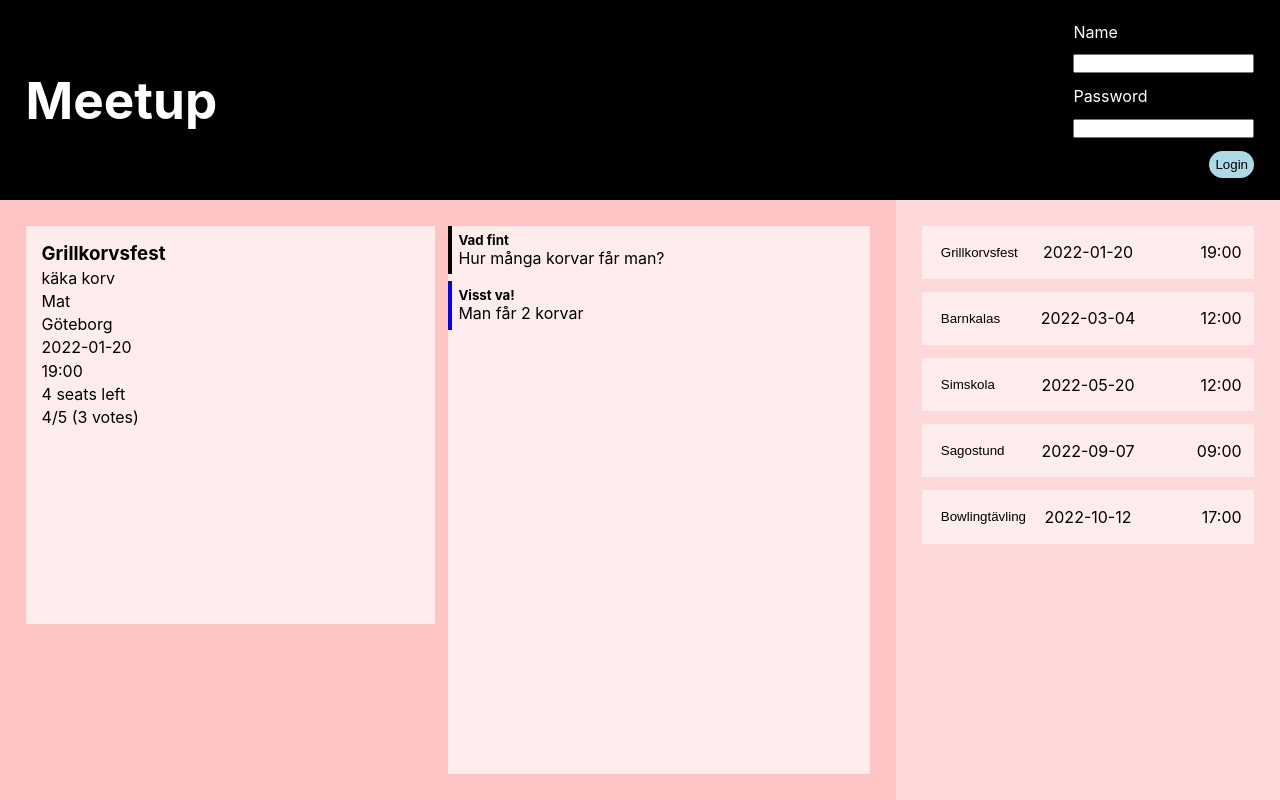
Test case: App › login on Click
Type "Anders" into the field with test id "login-form-input" showing "Name" at (1164, 64), box [1073,54,1254,73]
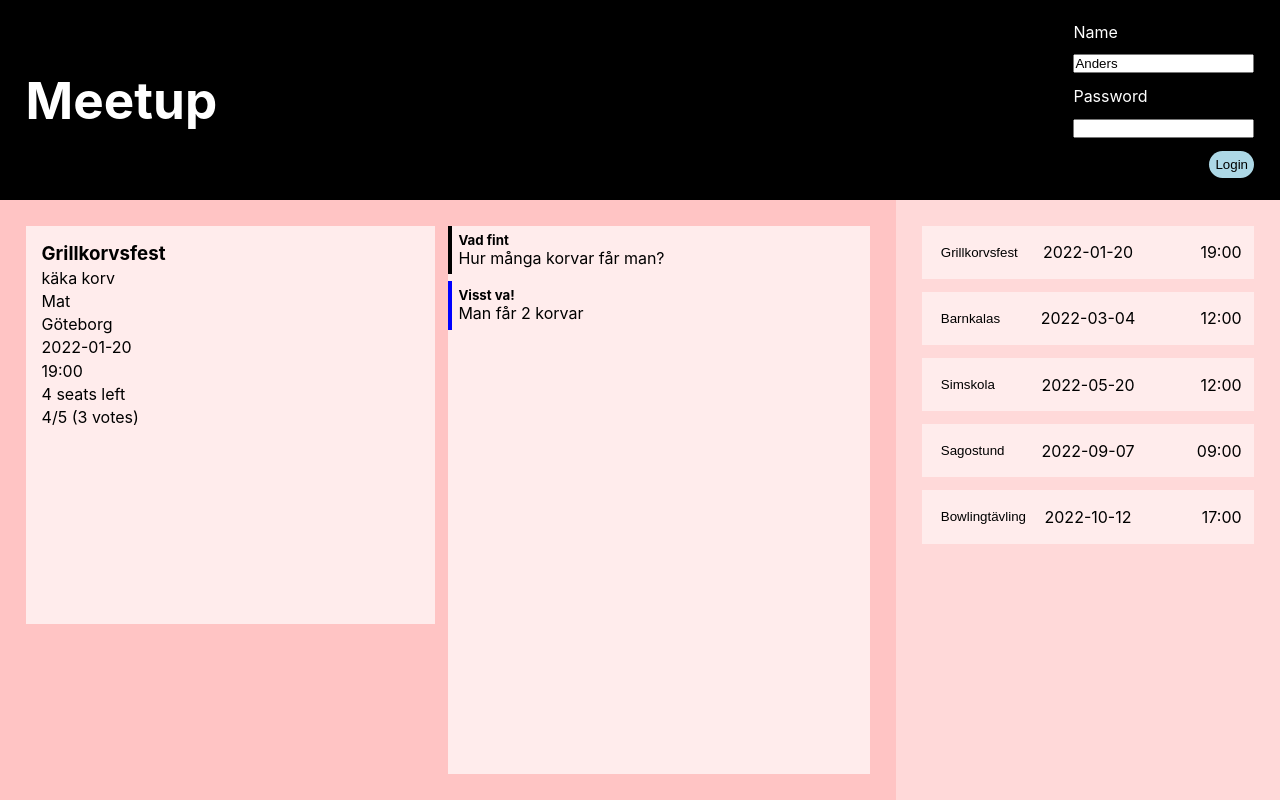
Type "bananKorv2" into the password field with test id "login-form-input" showing "Password" at (1164, 128), box [1073,119,1254,138]
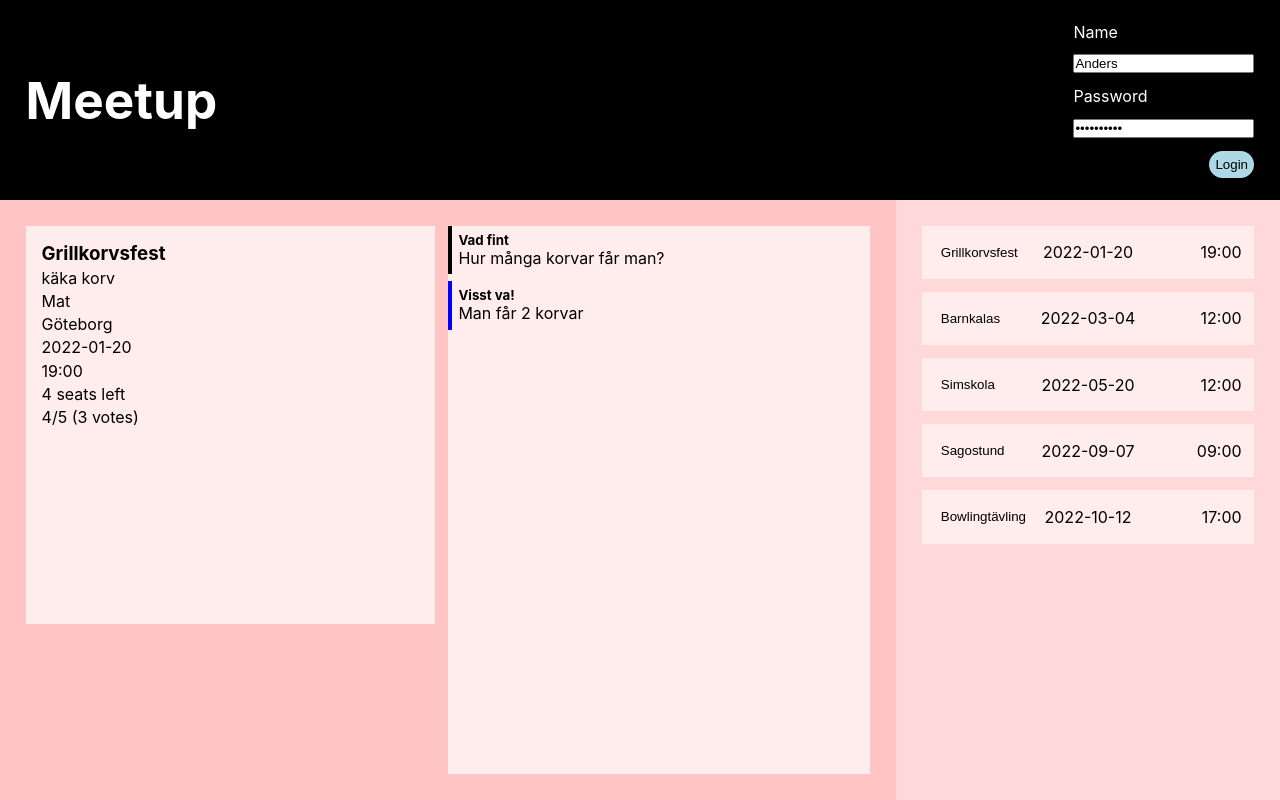
Click the button with test id "login-form-button" at (1232, 165), box [1209,151,1254,178]
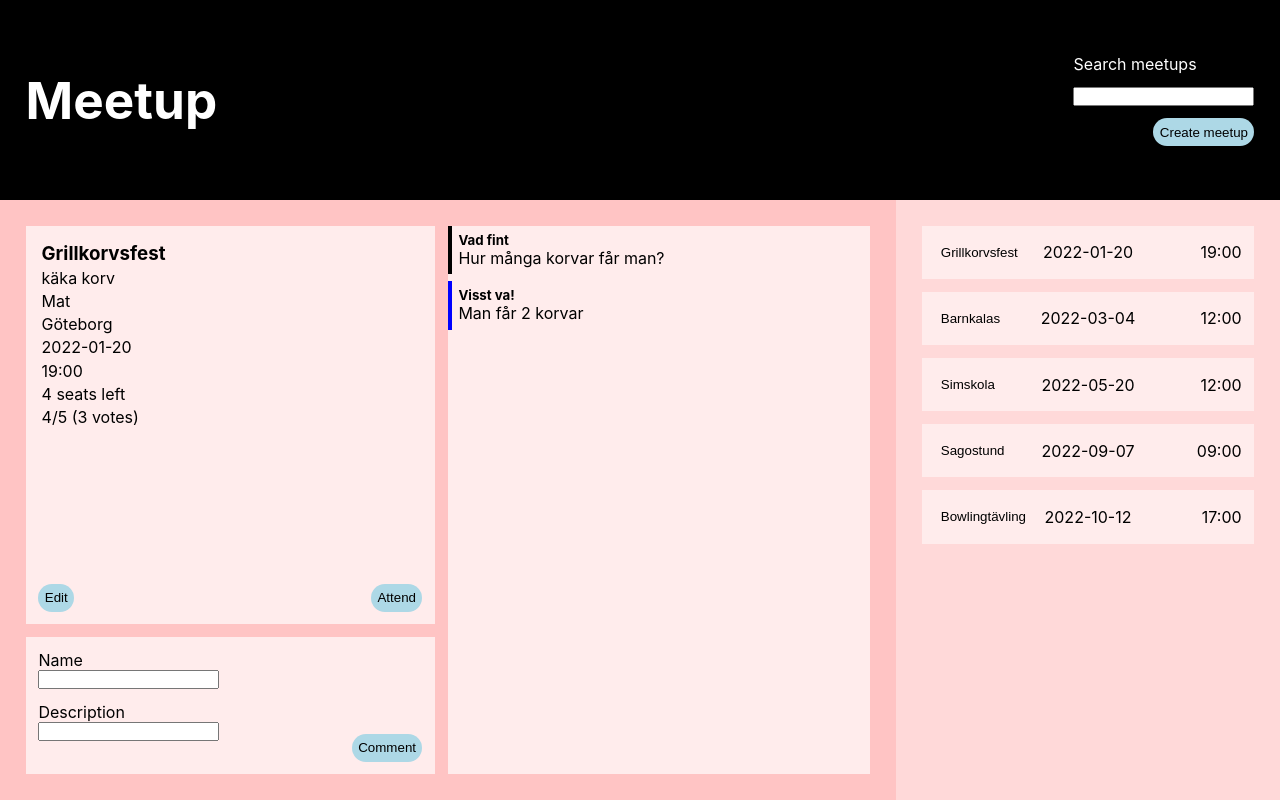
Expected: the button with test id "header-create-meetup" reads "Create meetup", [1154,118,1254,146]
